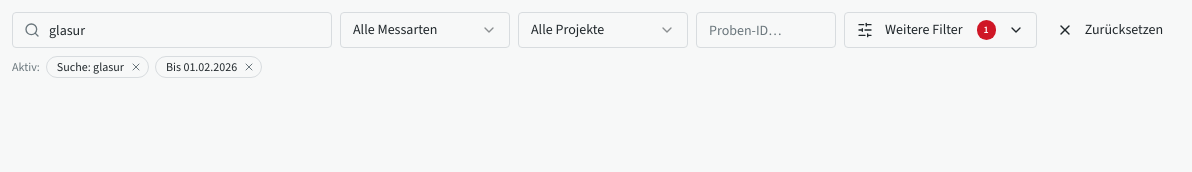
Scenario: ResultsFilterBar › setzt mit „Zurücksetzen“ alle Filter zurück
Click the button "Zurücksetzen" at (1110, 30), box [1045,12,1175,48]
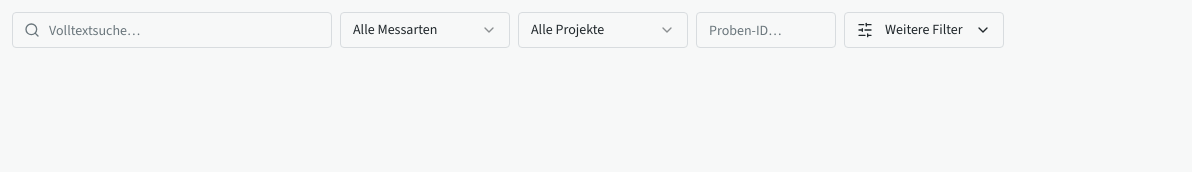
Expected: the text "Aktiv:" is gone
